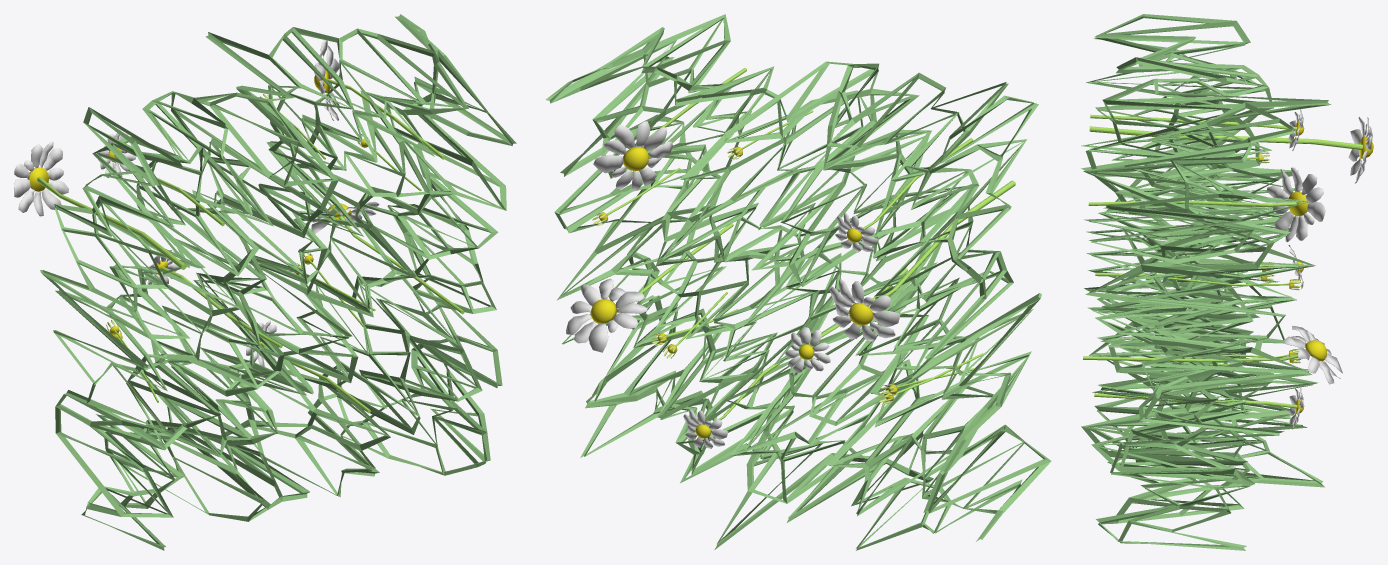
The model's file is Grass_with_Flowers.fbx.
The picture shows the model from 3 angles, left to right: view 1: azimuth 30°, elevation 25°; view 2: azimuth 150°, elevation 25°; view 3: azimuth 270°, elevation 25°; orthographic projection. The views are drawn at different scales.
Visible parts, largest first — view 1: Grass_with_Flowers; view 2: Grass_with_Flowers; view 3: Grass_with_Flowers.
Part boxes in pixels (box(x1,y1,x2,y2)): Grass_with_Flowers: box(14, 14, 516, 550); Grass_with_Flowers: box(545, 14, 1051, 550); Grass_with_Flowers: box(1081, 14, 1373, 550).
Size of the model in its own units: 118 by 119 by 81.5.
